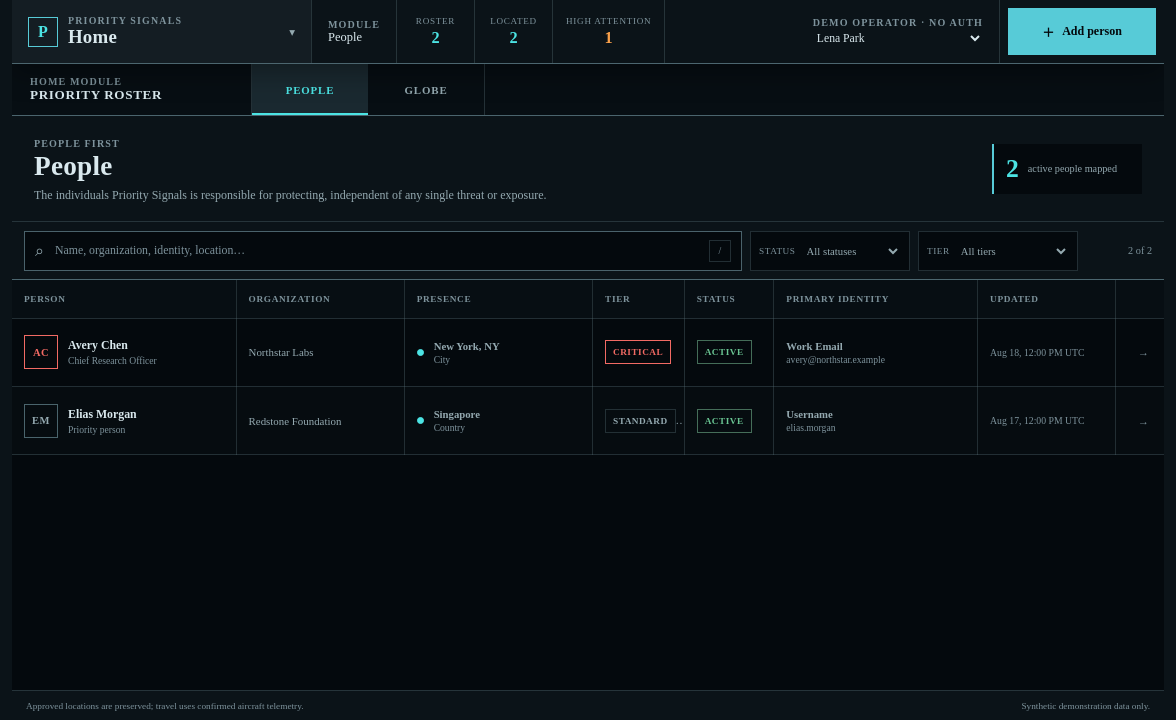
People workspace › opens create and manage flows from the roster
The width and height of the screenshot is (1176, 720).
Click the button "＋ Add person".
click(1082, 32)  # box x1=1008 y1=8 x2=1156 y2=55
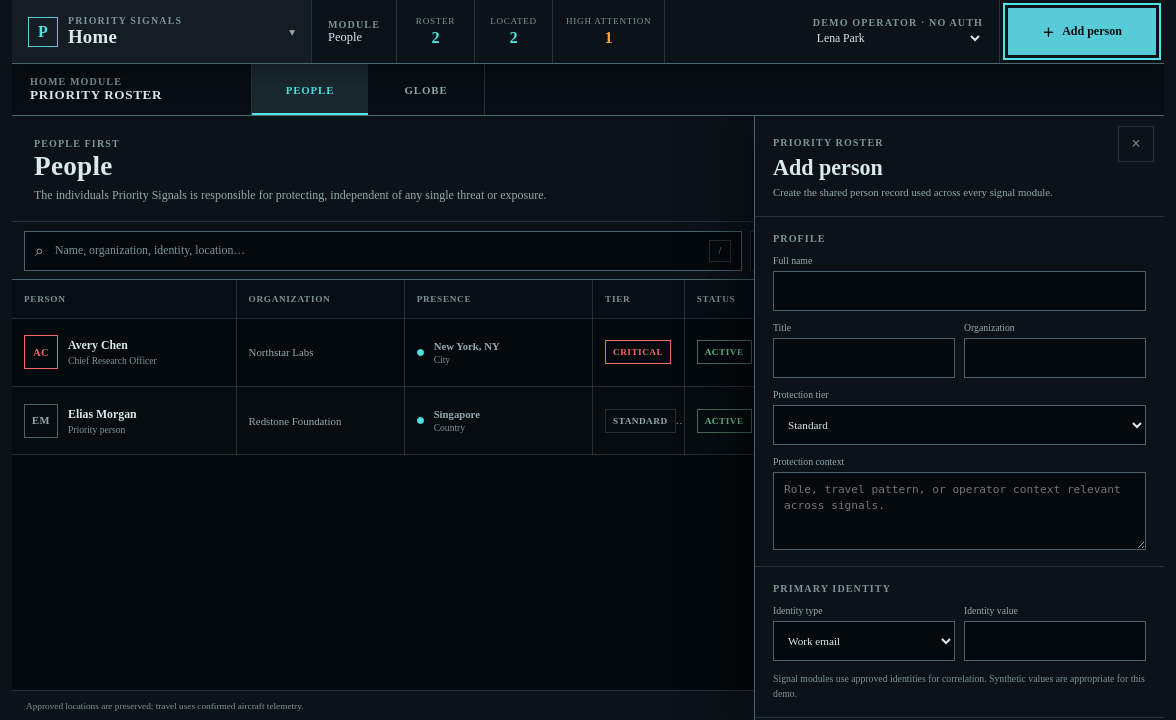
Expected: the element "Add person" is shown, x1=754 y1=116 x2=1164 y2=719
Expected: the text "shared person record used across every signal module" is shown, x1=773 y1=186 x2=1053 y2=198
Click the button named "Close person editor".
click(1136, 144)  # box x1=1118 y1=126 x2=1154 y2=162
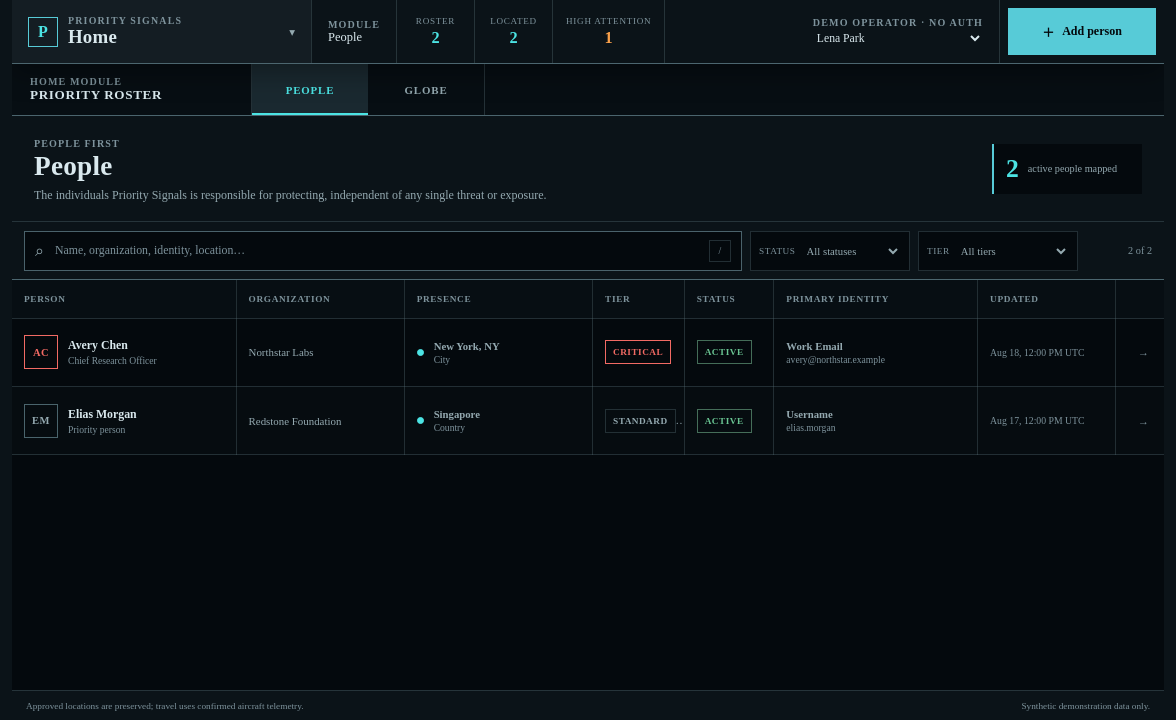
Click the button named "View Avery Chen".
click(1144, 352)  # box x1=1128 y1=336 x2=1160 y2=368
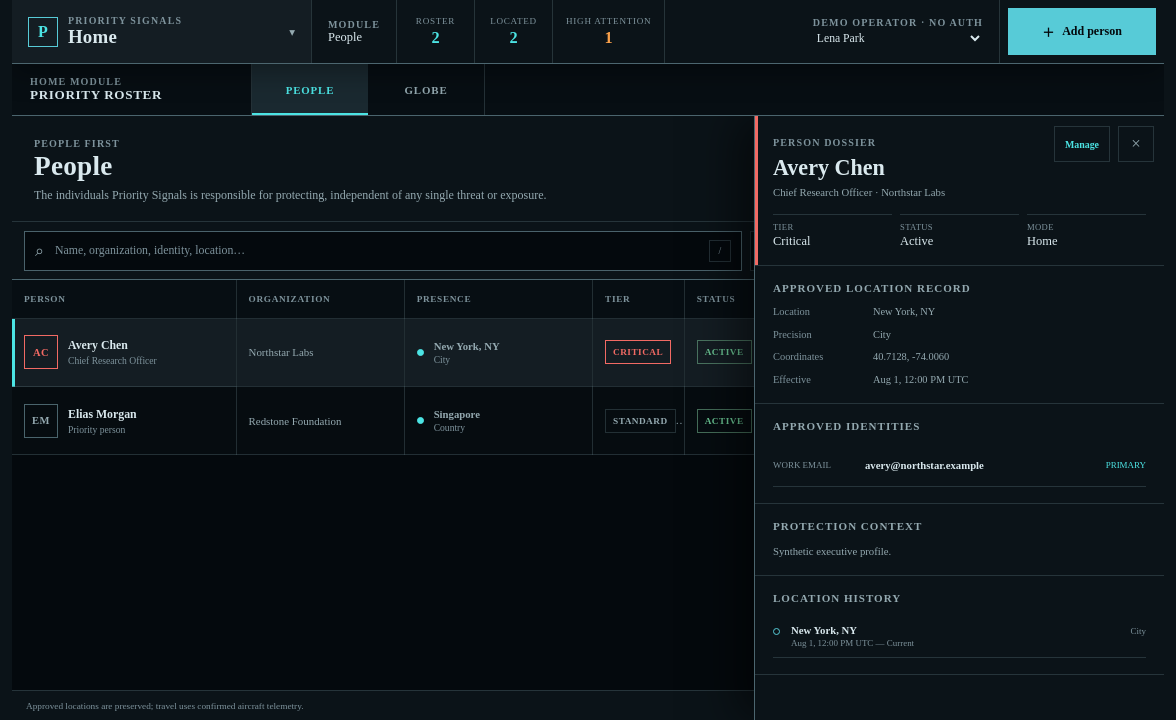
Click the button "Manage".
click(1082, 144)  # box x1=1054 y1=126 x2=1110 y2=162
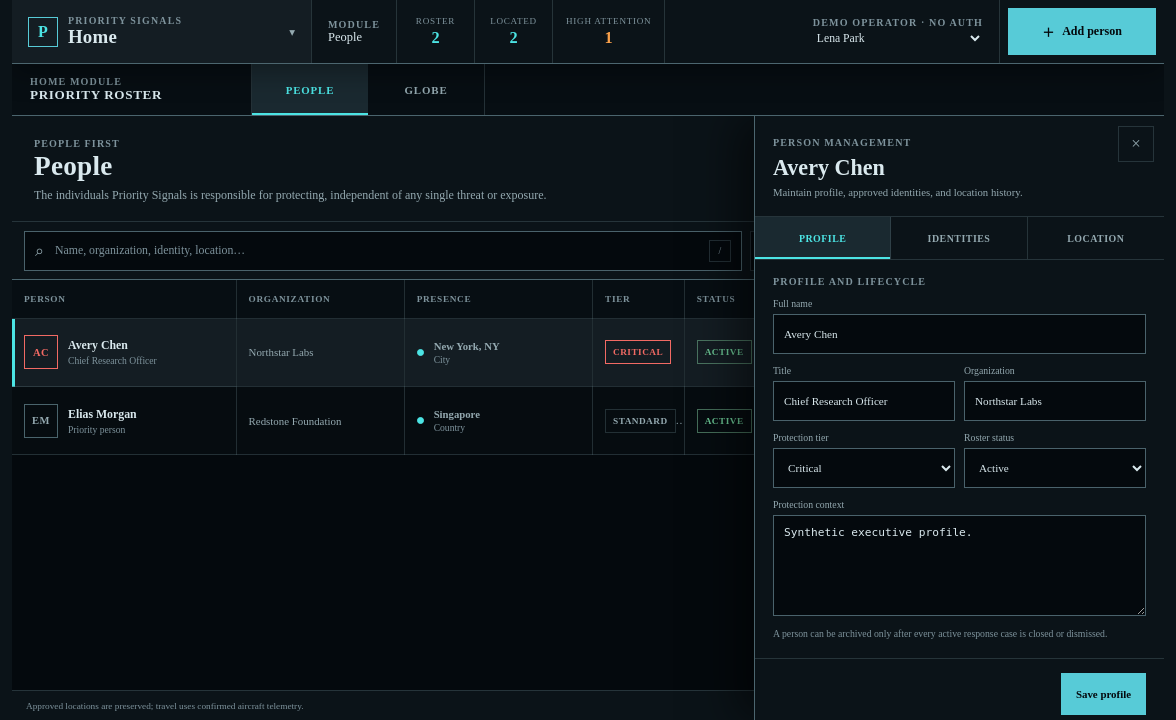
Expected: the navigation bar named "Person management sections" is shown, x1=755 y1=217 x2=1164 y2=260
Expected: the field showing "Northstar Labs" is shown, x1=964 y1=381 x2=1146 y2=421
